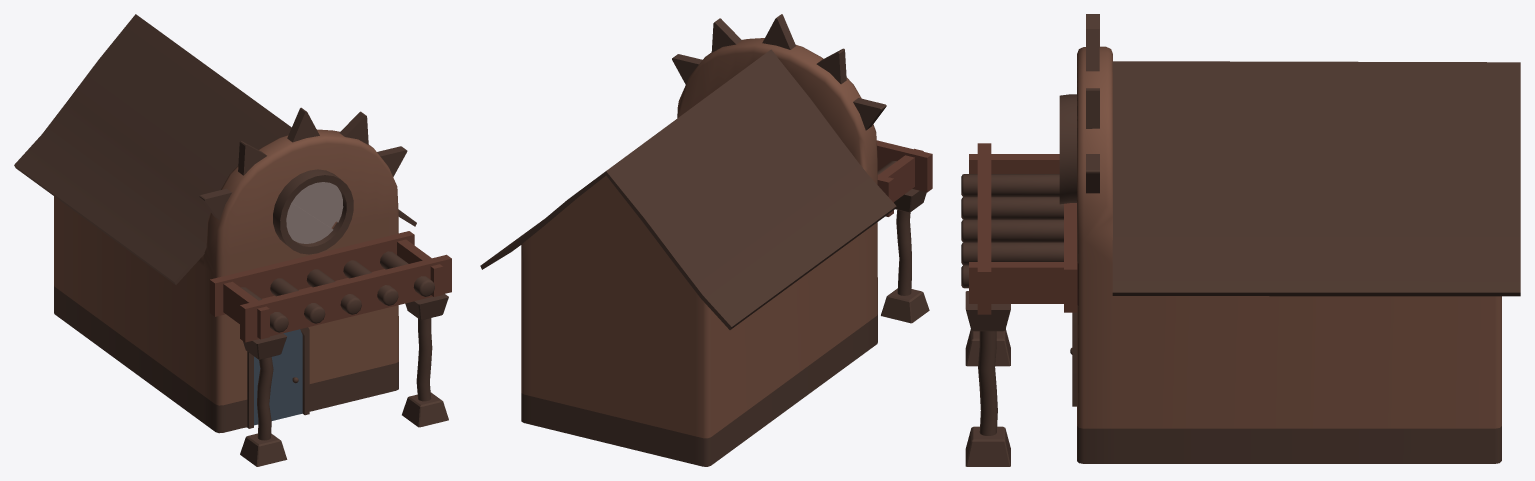
Rendered from OldWomenHouse_v1.fbx.
3 renders of one model, left to right at view 1: azimuth 30°, elevation 25°; view 2: azimuth 150°, elevation 25°; view 3: azimuth 270°, elevation 25°, orthographic. The views are drawn at different scales.
Visible parts, largest first — view 1: OldWomenHouse; view 2: OldWomenHouse; view 3: OldWomenHouse.
Part boxes in pixels (box(x1,y1,x2,y2)): OldWomenHouse: box(14, 14, 451, 466); OldWomenHouse: box(480, 14, 932, 466); OldWomenHouse: box(961, 14, 1520, 466).
Bounding box in the file's own units: 544 × 638 × 850.
